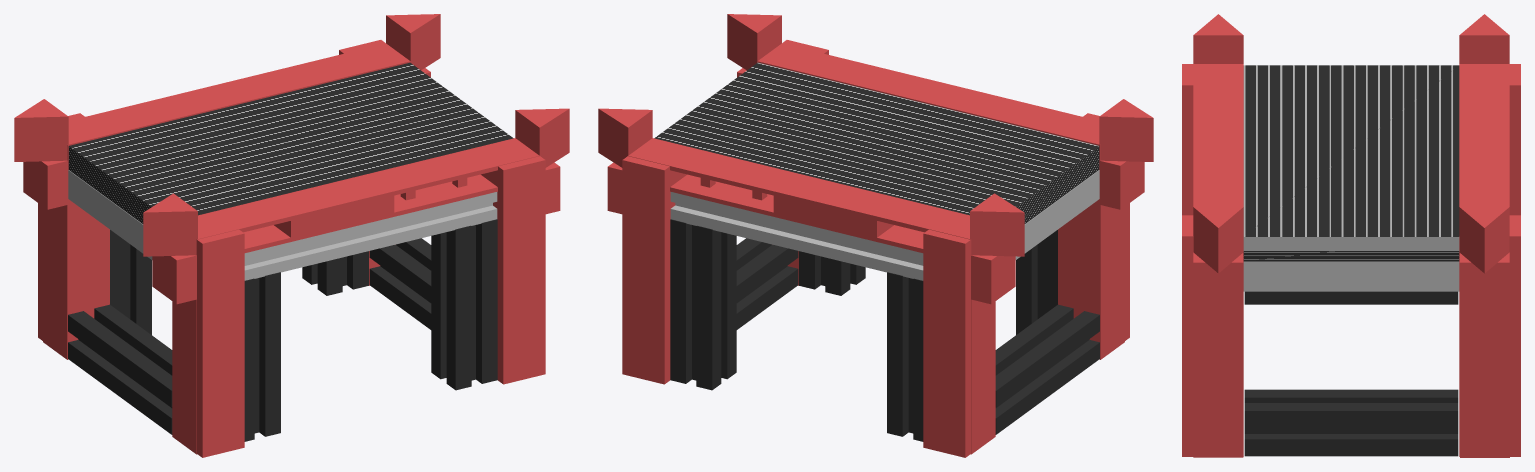
The model's file is Conveyor.fbx.
The picture shows the model from 3 angles, left to right: view 1: azimuth 30°, elevation 25°; view 2: azimuth 150°, elevation 25°; view 3: azimuth 270°, elevation 25°; orthographic projection. The views are drawn at different scales.
Parts seen in each view (by area): view 1: Conveyor_Structure, Belt; view 2: Conveyor_Structure, Belt; view 3: Conveyor_Structure, Belt.
Boxes of the visible parts, left/top/right/bottom form: Conveyor_Structure: left=14, top=14, right=569, bottom=457; Belt: left=68, top=62, right=513, bottom=223; Conveyor_Structure: left=598, top=14, right=1153, bottom=457; Belt: left=654, top=62, right=1099, bottom=223; Conveyor_Structure: left=1182, top=14, right=1520, bottom=457; Belt: left=1243, top=65, right=1459, bottom=261.
Bounding box in the file's own units: 448 × 244 × 299.
